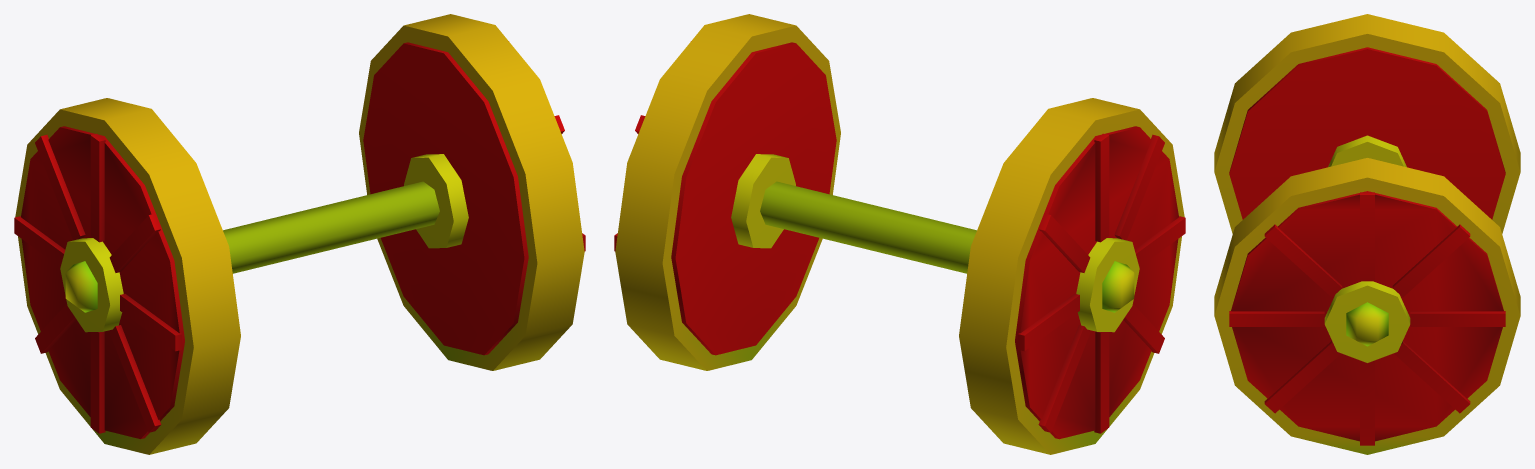
Rendered from MagicCannon_wheel0_LOD1.glb.
3 views of the same model, side by side, from view 1: azimuth 30°, elevation 25°; view 2: azimuth 150°, elevation 25°; view 3: azimuth 270°, elevation 25° (orthographic). The views are drawn at different scales.
Parts seen in each view (by area): view 1: MagicCannon_wheel0_LOD1; view 2: MagicCannon_wheel0_LOD1; view 3: MagicCannon_wheel0_LOD1.
Boxes of the visible parts, box(x1,y1,x2,y2) form: MagicCannon_wheel0_LOD1: box(14, 14, 585, 454); MagicCannon_wheel0_LOD1: box(614, 14, 1185, 454); MagicCannon_wheel0_LOD1: box(1214, 14, 1520, 454).
Size of the model in its own units: 2.44 by 1.66 by 1.66.
